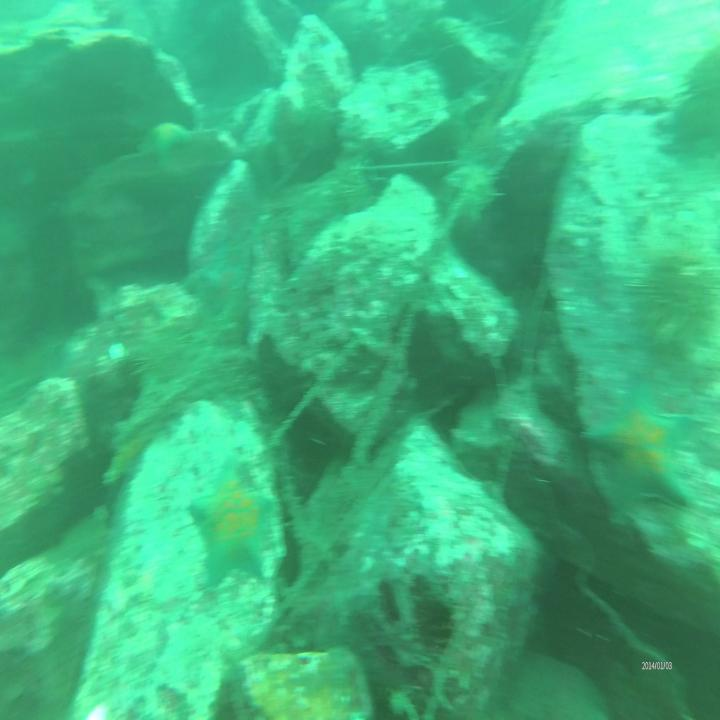starfish: (586, 369, 700, 534), (190, 466, 272, 589), (138, 112, 190, 174)
